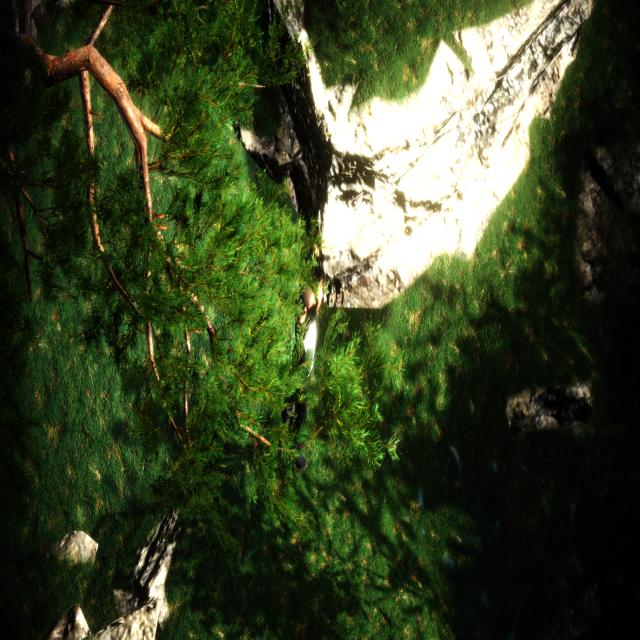Human: (286, 263, 324, 476)
